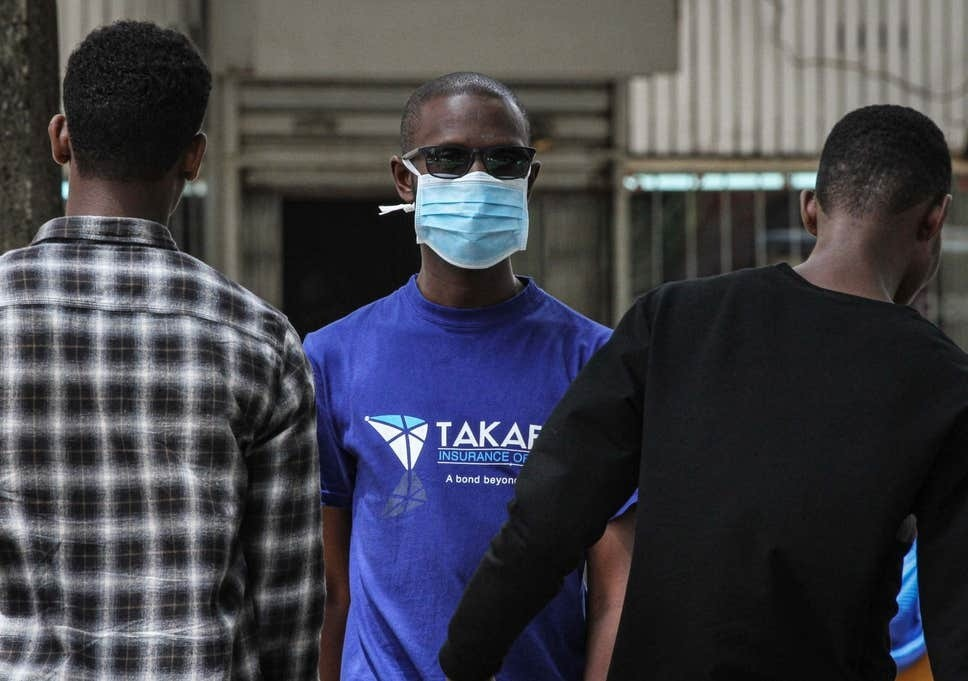face_with_mask: (386, 76, 545, 285)
